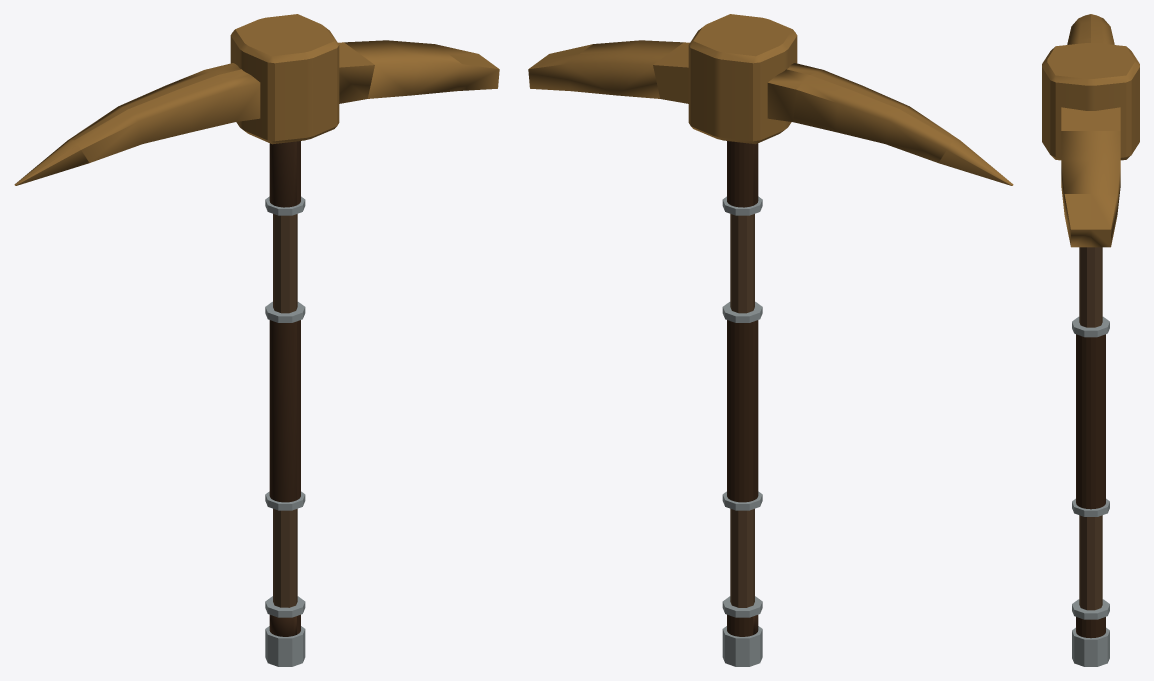
3 views of the same model, side by side, from view 1: azimuth 30°, elevation 25°; view 2: azimuth 150°, elevation 25°; view 3: azimuth 270°, elevation 25° (orthographic). The views are drawn at different scales.
Parts seen in each view (by area): view 1: SM_Pickaxe_01_Bronze_LOD0; view 2: SM_Pickaxe_01_Bronze_LOD0; view 3: SM_Pickaxe_01_Bronze_LOD0.
Part boxes in pixels (box(x1,y1,x2,y2)): SM_Pickaxe_01_Bronze_LOD0: box(14, 14, 499, 666); SM_Pickaxe_01_Bronze_LOD0: box(528, 14, 1013, 666); SM_Pickaxe_01_Bronze_LOD0: box(1042, 14, 1139, 666).
Bounding box in the file's own units: 1.04 × 1.3 × 0.1934.
